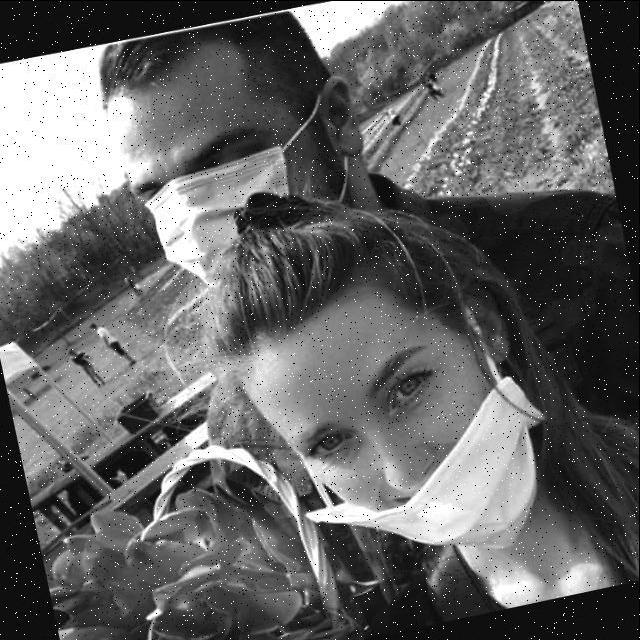mask: (148, 132, 282, 256)
no_gloves: (228, 204, 398, 328), (112, 0, 303, 85)
no_hairnet: (367, 339, 497, 581)
